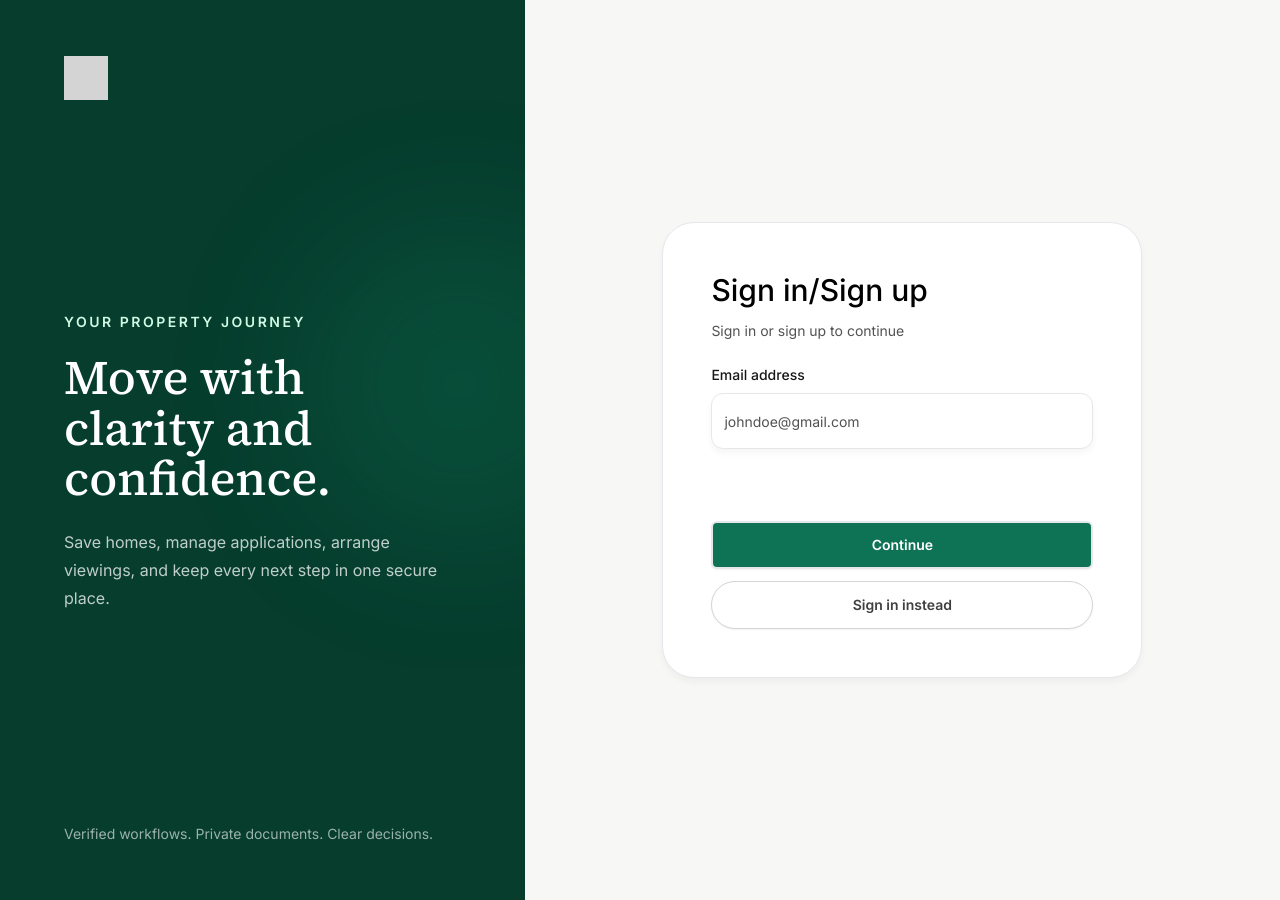
SignUpPage › shows backend errors on the details step
This screenshot has width=1280, height=900.
Type "ada@example.com" into the field labelled "Email address". click: (902, 421)
box: 711,393 -> 1093,449
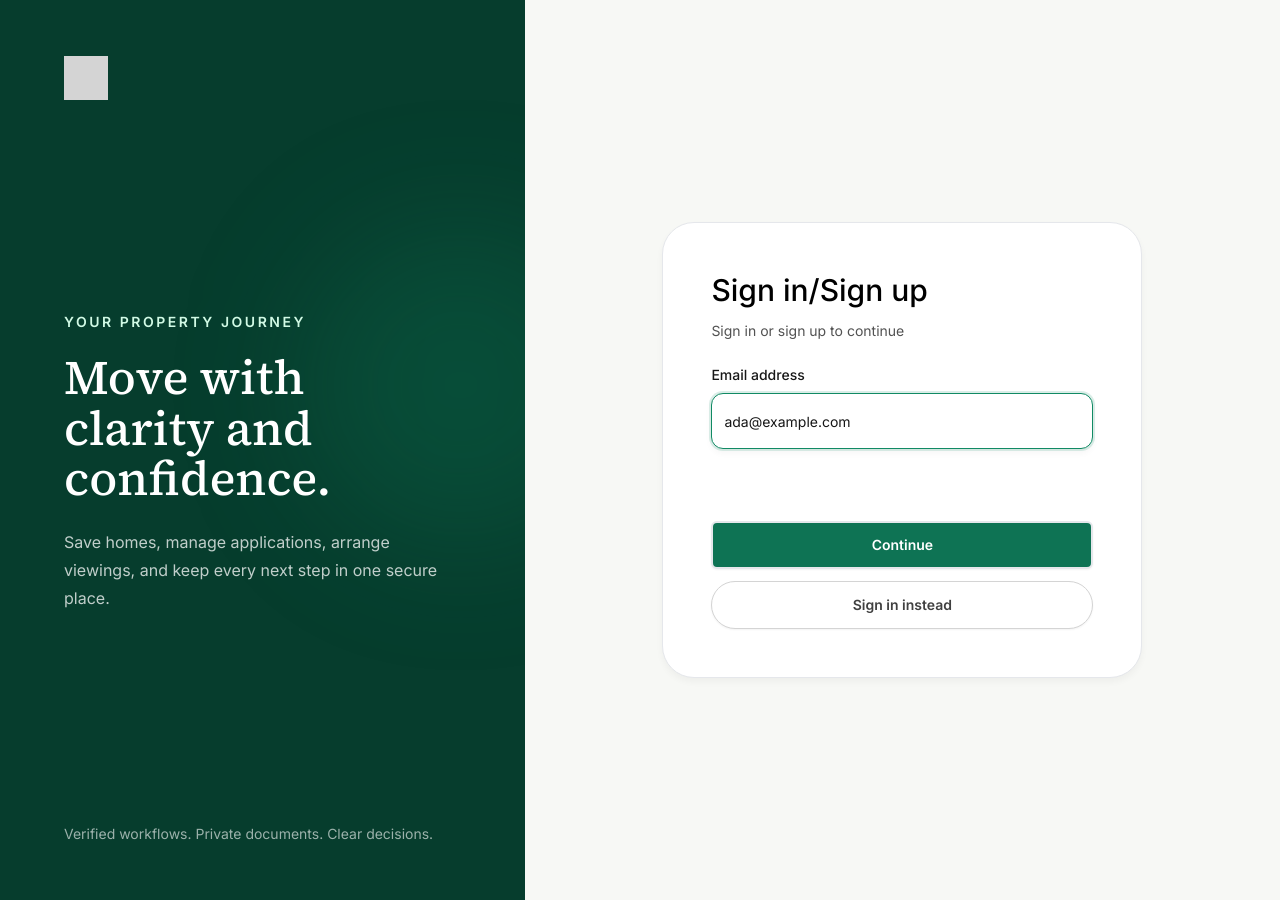
Click the button "Continue". click: (902, 545)
box: 711,521 -> 1093,569
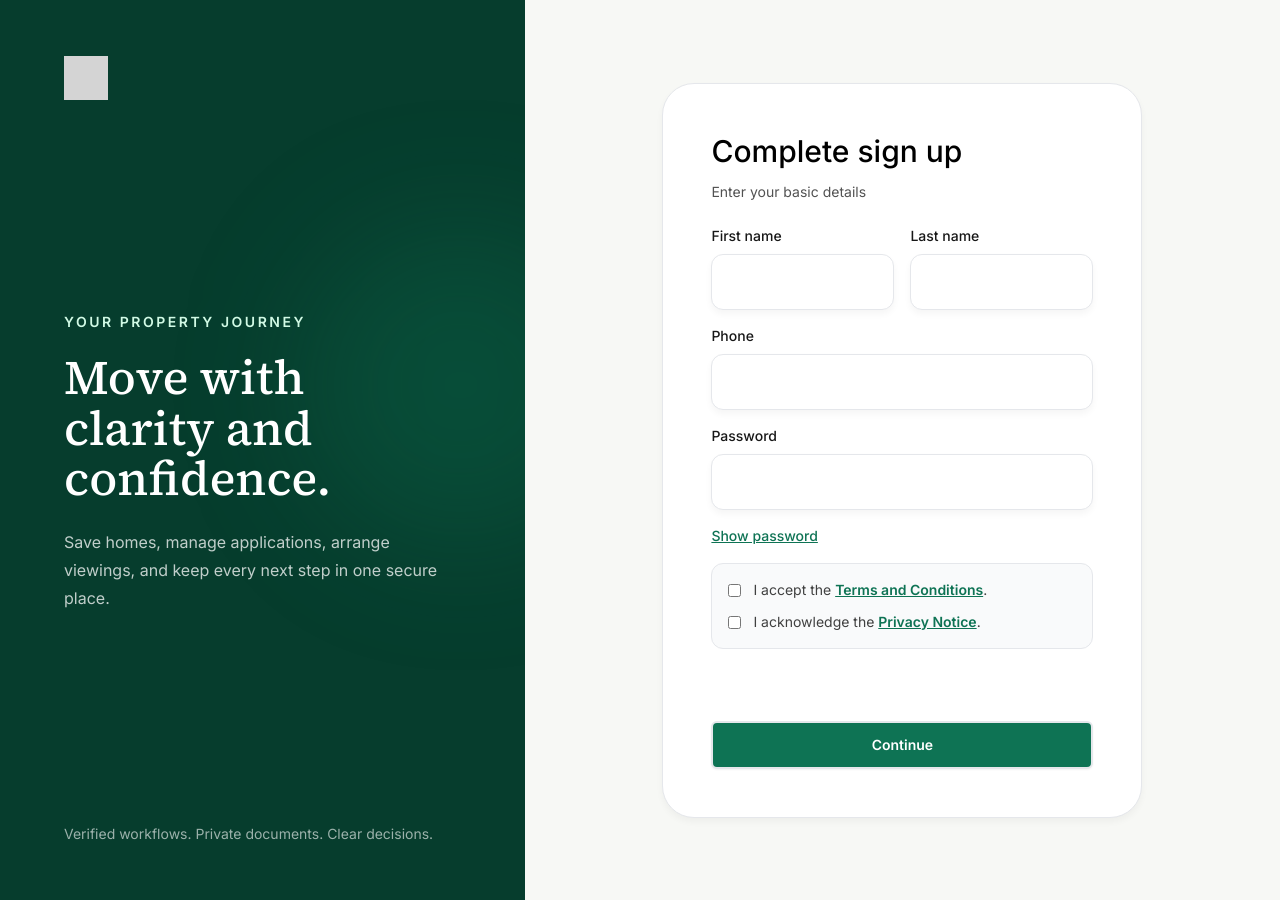
Type "Str0ngPass123!" into the password field labelled "Password". click: (902, 482)
box: 711,454 -> 1093,510
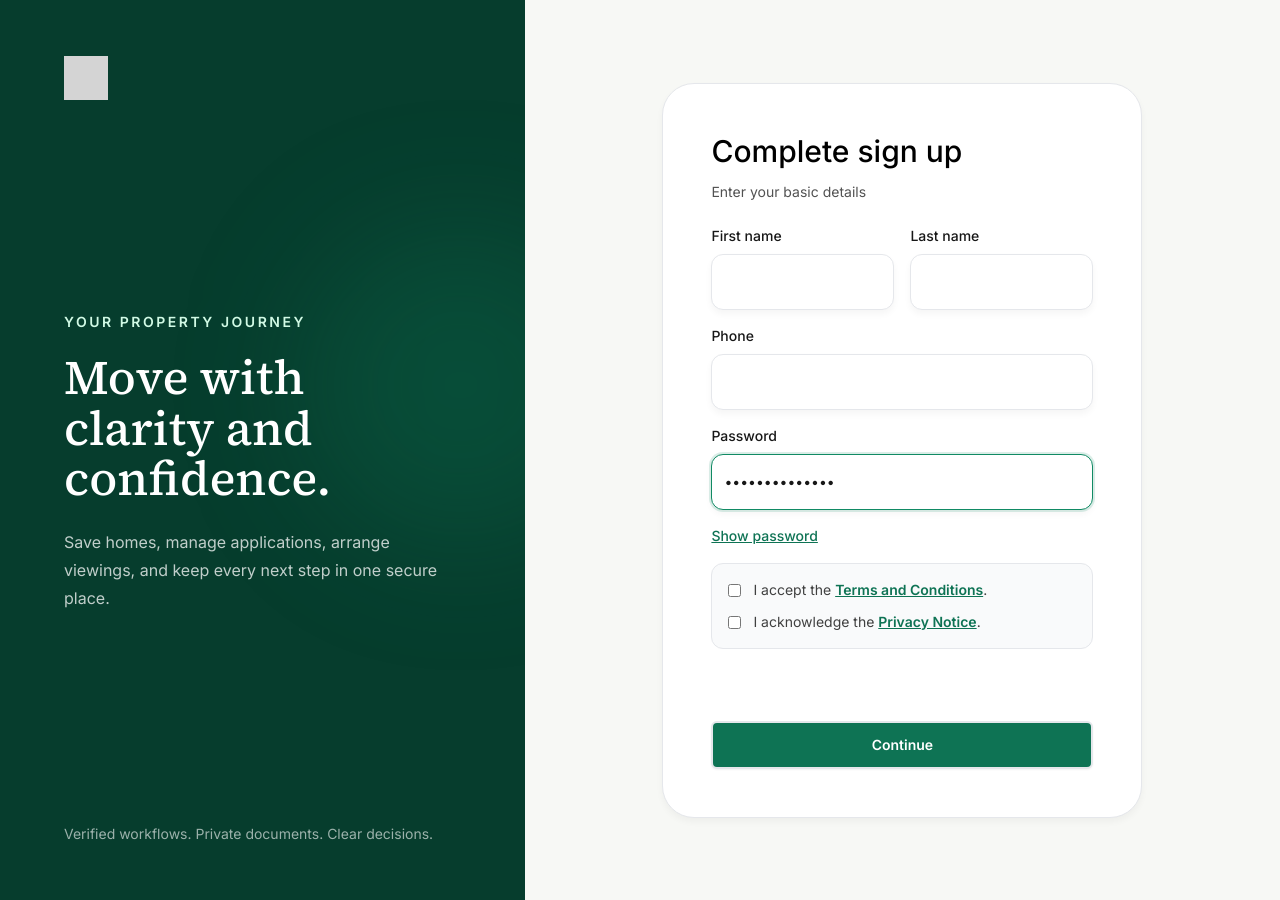
Click the checkbox named "I accept the Terms". click: (735, 590)
box: 728,584 -> 741,596
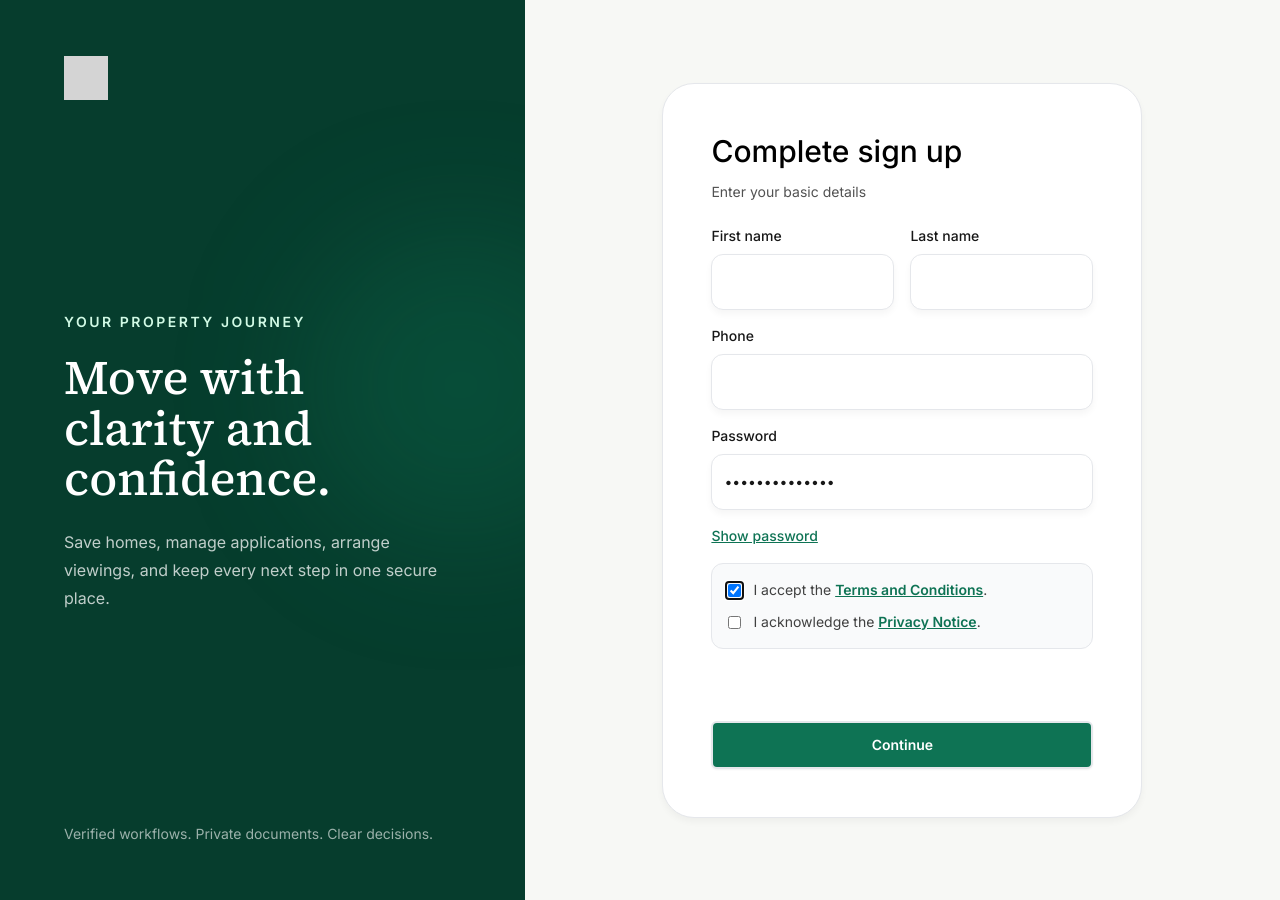
Click the checkbox named "I acknowledge the Privacy Notice". click: (735, 622)
box: 728,616 -> 741,628
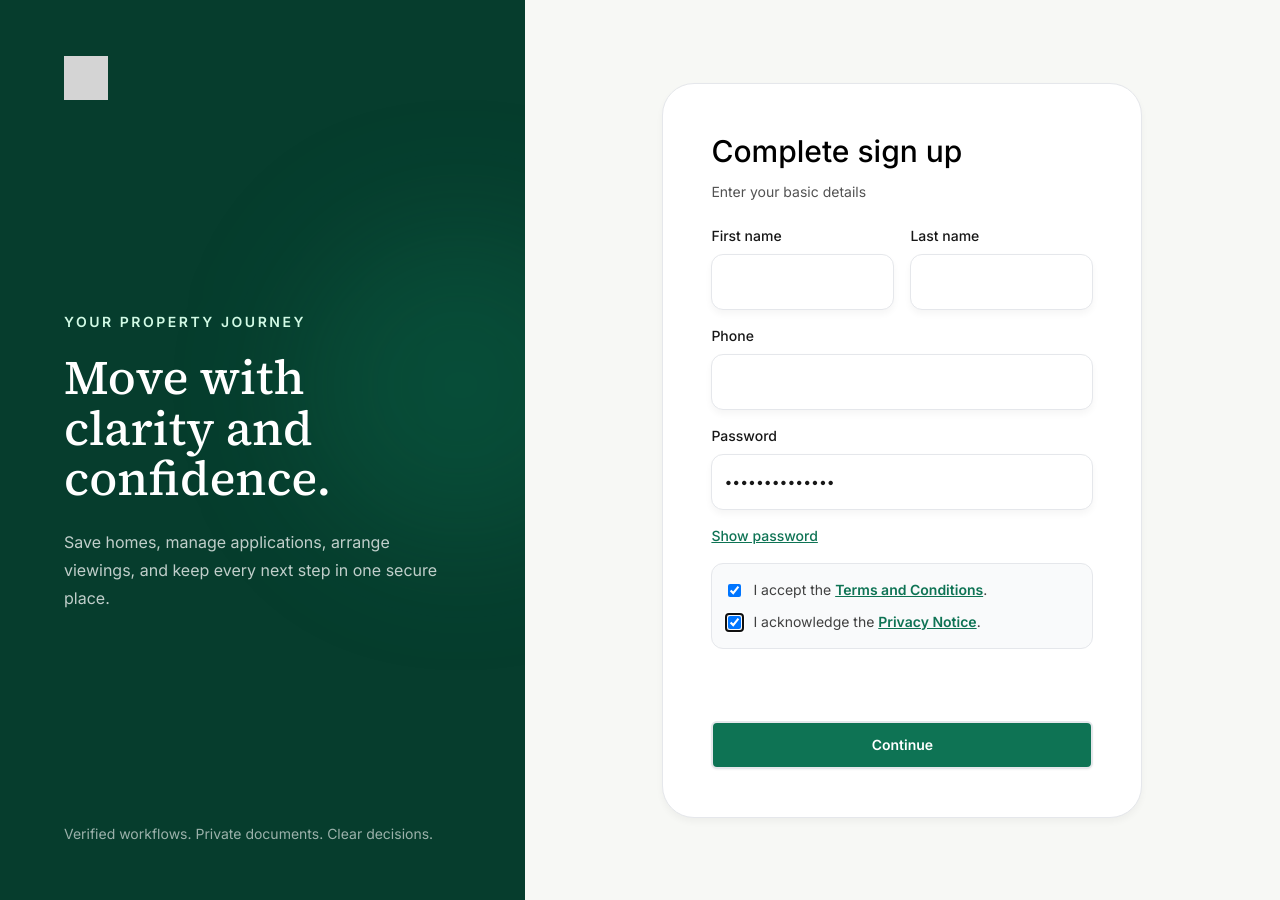
Click the button "Continue". click: (902, 744)
box: 711,720 -> 1093,768
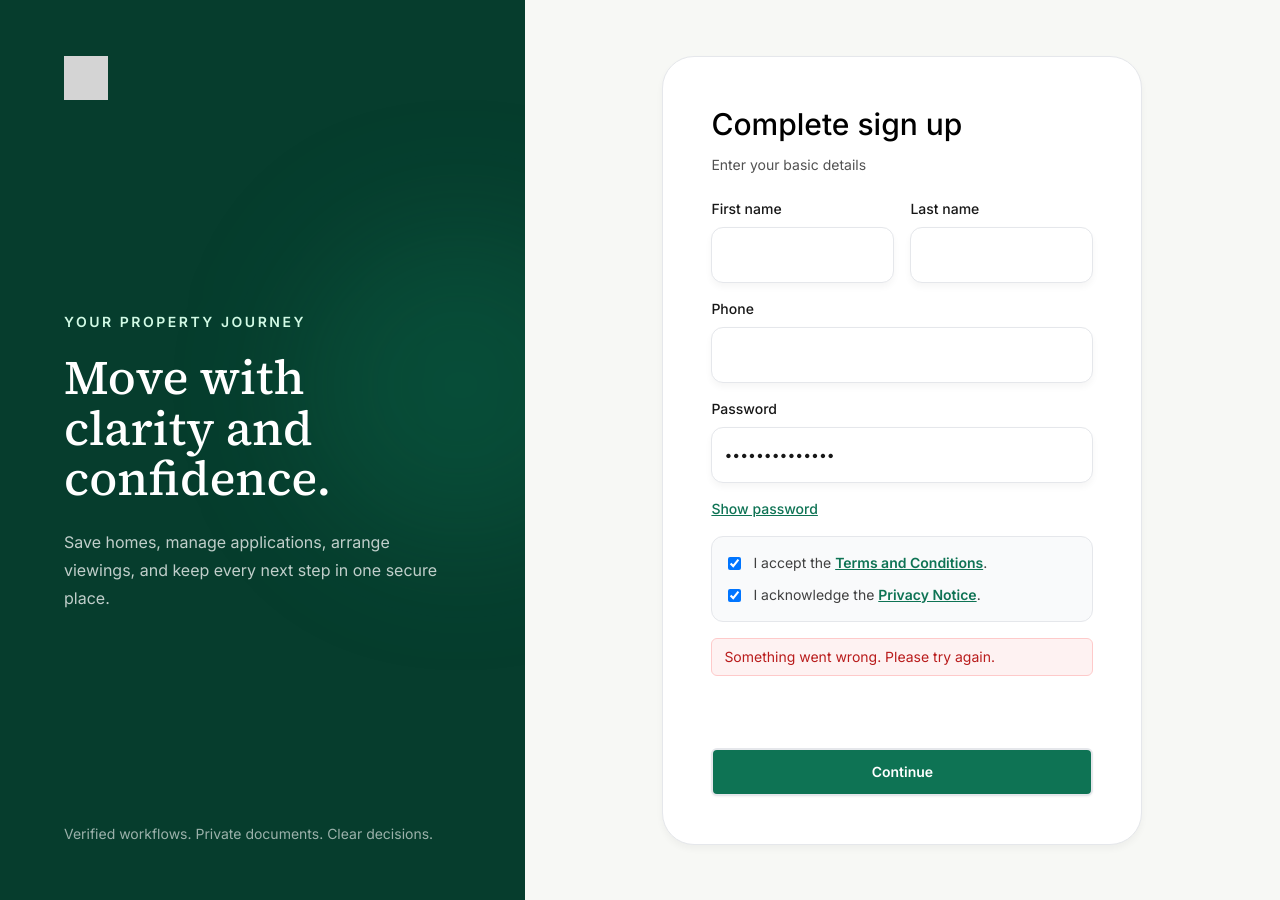
Expected: the heading "Complete sign up" is shown, 711,106 -> 962,142
Expected: the text "Something went wrong. Please try again." is shown, 711,638 -> 1093,676
